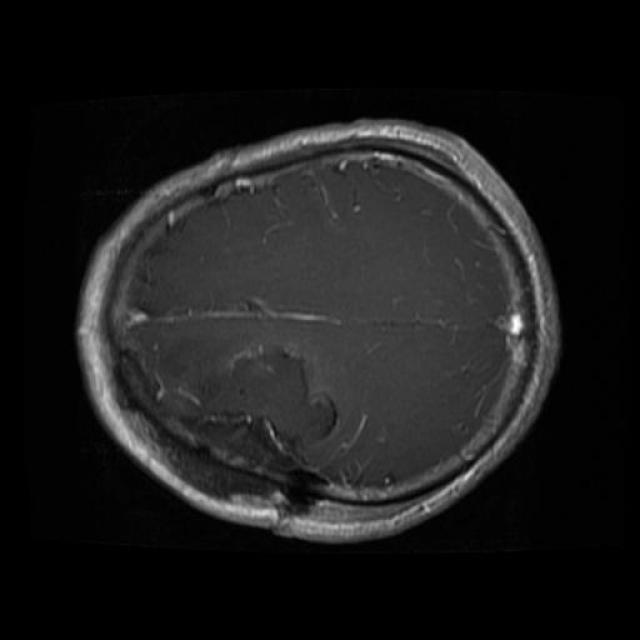Glioma: (118, 348, 337, 509)
